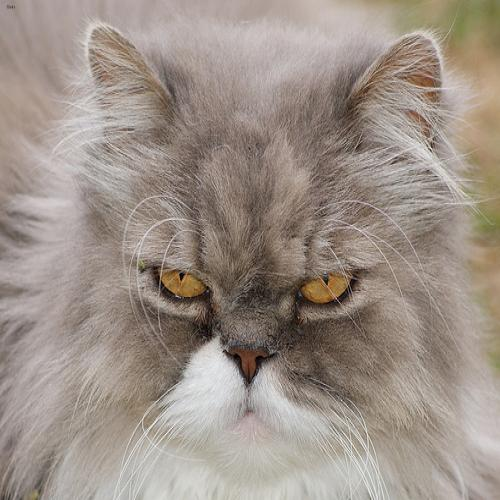persian: (68, 10, 466, 500)
